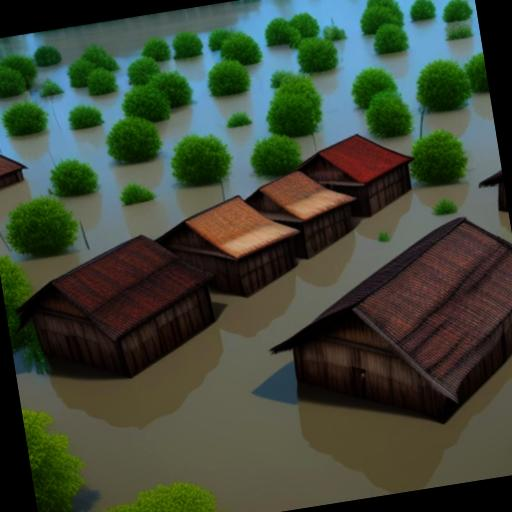flood: (12, 200, 512, 512), (0, 47, 300, 290), (268, 216, 512, 424), (0, 0, 366, 86), (295, 17, 482, 159), (352, 92, 501, 239)
house: (252, 204, 512, 453), (6, 218, 224, 395), (146, 186, 306, 314), (240, 160, 366, 269), (293, 126, 414, 230), (474, 148, 510, 224), (0, 136, 31, 196)
